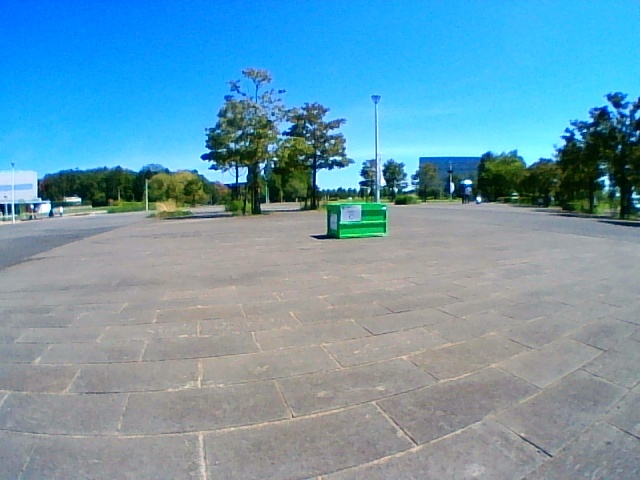green_box: (326, 202, 387, 238)
tag: (341, 205, 360, 221)
